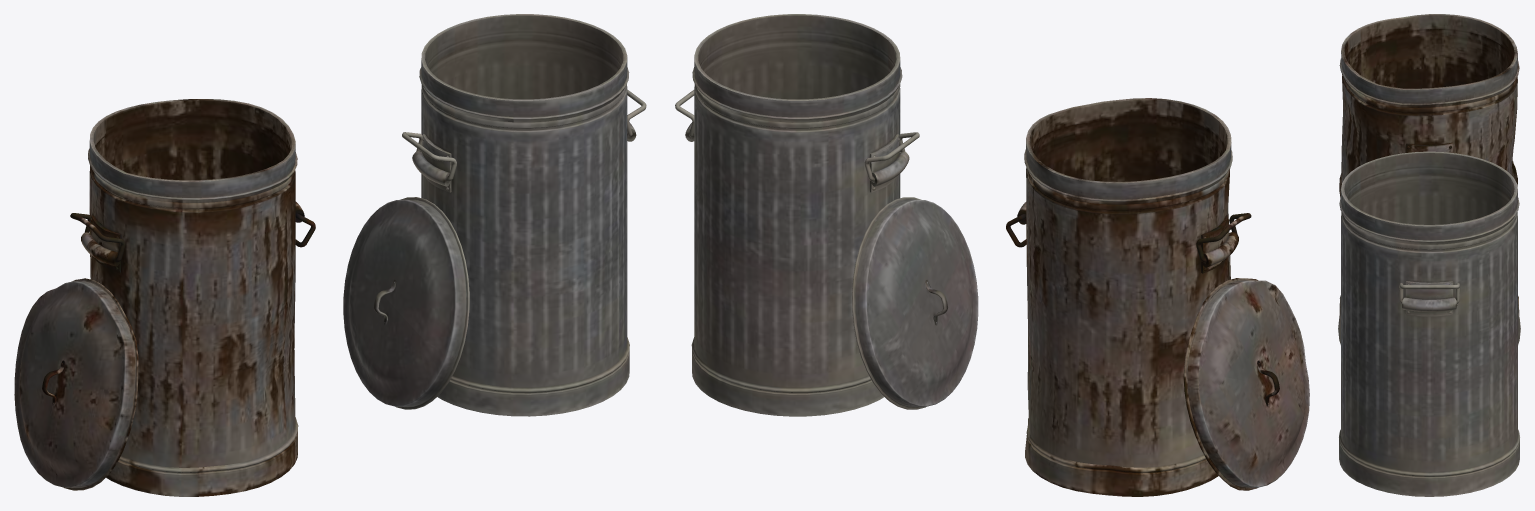
File: ph_metal_trash_can.glb
3 renders of one model, left to right at view 1: azimuth 30°, elevation 25°; view 2: azimuth 150°, elevation 25°; view 3: azimuth 270°, elevation 25°, orthographic. The views are drawn at different scales.
Visible parts, largest first — view 1: metal_trash_can_handle_left; view 2: metal_trash_can_handle_left; view 3: metal_trash_can_handle_left.
Part boxes in pixels (<box>): metal_trash_can_handle_left: <box>14,14,646,496</box>; metal_trash_can_handle_left: <box>675,14,1309,496</box>; metal_trash_can_handle_left: <box>1338,14,1520,496</box>.
Size of the model in its own units: 1.78 by 0.9062 by 0.5563.
Materials: 3 (3 with a texture image).
